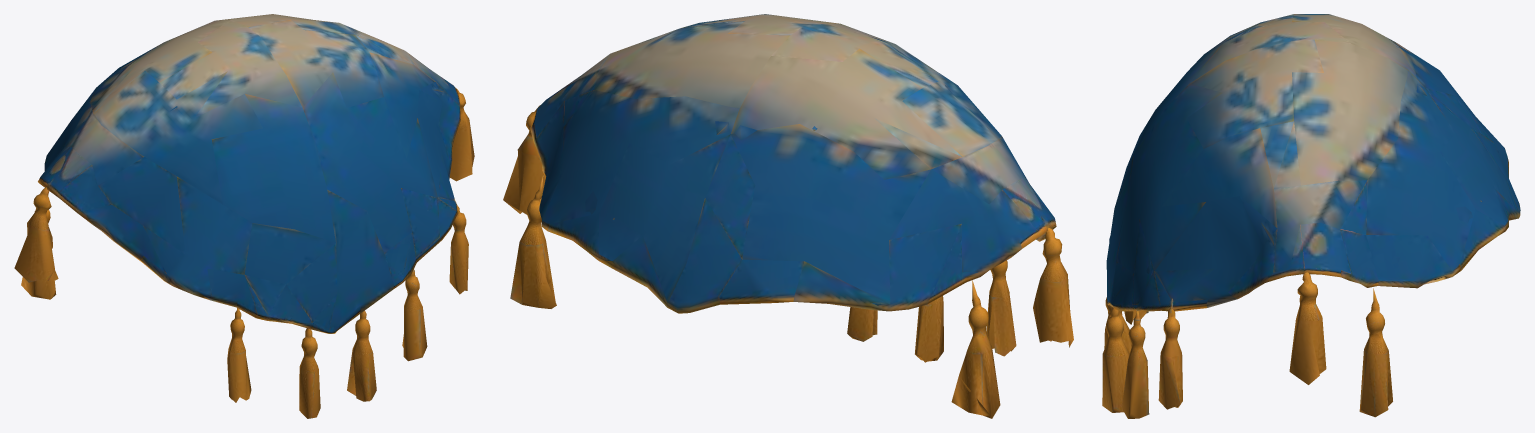
File: cloth_shoulder2.glb
The picture shows the model from 3 angles, left to right: view 1: azimuth 30°, elevation 25°; view 2: azimuth 150°, elevation 25°; view 3: azimuth 270°, elevation 25°; orthographic projection. The views are drawn at different scales.
Bounding box in the file's own units: 0.9497 × 0.6304 × 0.6636.
Materials: 1 (1 with a texture image).
